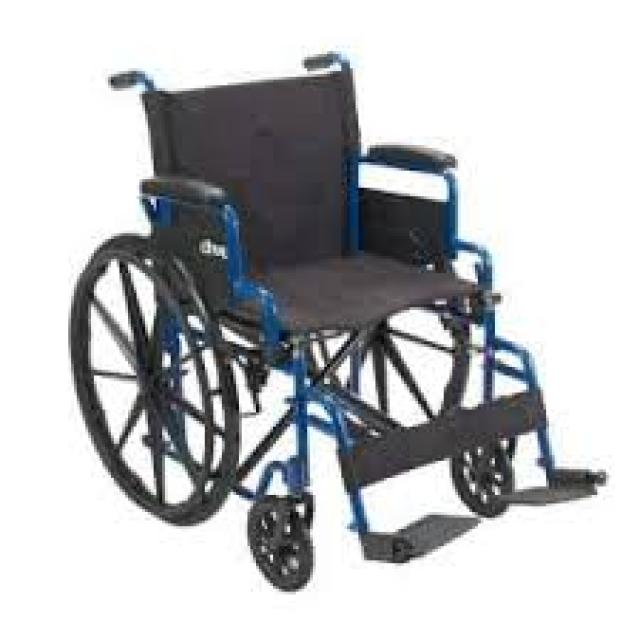wheelchairs: (74, 48, 614, 598)
